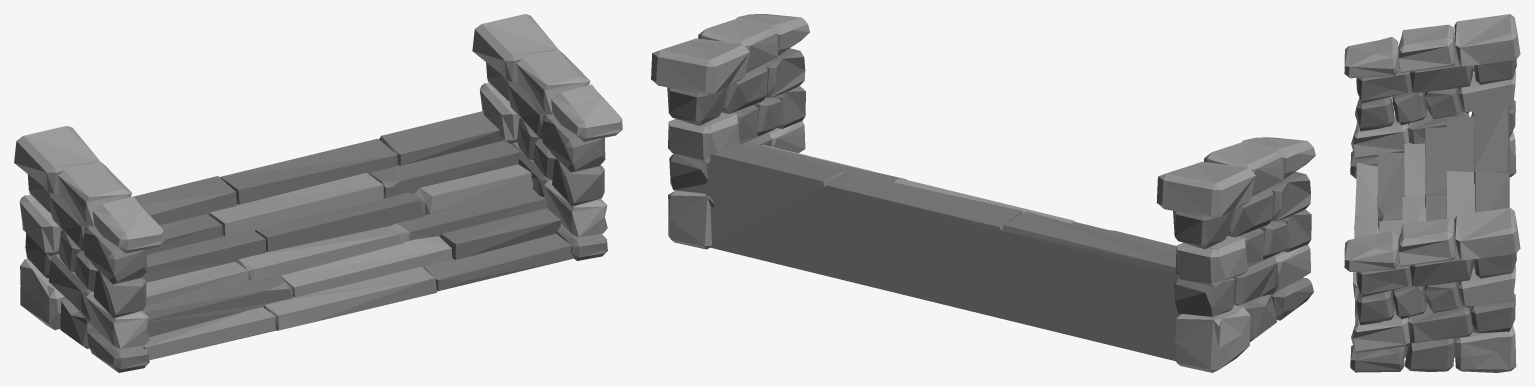
File: _STAIRS_02_1.glb
3 renders of one model, left to right at view 1: azimuth 30°, elevation 25°; view 2: azimuth 150°, elevation 25°; view 3: azimuth 270°, elevation 25°, orthographic. The views are drawn at different scales.
Visible parts, largest first — view 1: STAIRS_02_1; view 2: STAIRS_02_1; view 3: STAIRS_02_1.
Boxes of the visible parts, <box> form: STAIRS_02_1: <box>14,14,622,372</box>; STAIRS_02_1: <box>651,14,1315,372</box>; STAIRS_02_1: <box>1344,14,1520,372</box>.
Bounding box in the file's own units: 3.41 × 1.1 × 1.16.
Materials: 1 (1 with a texture image).
